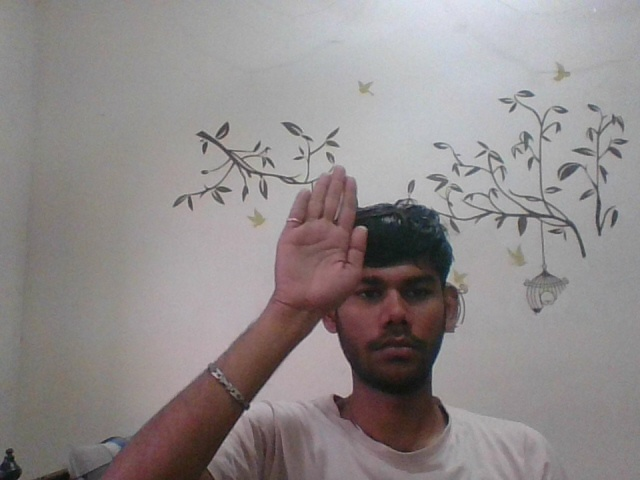Hello: (270, 166, 375, 323)
